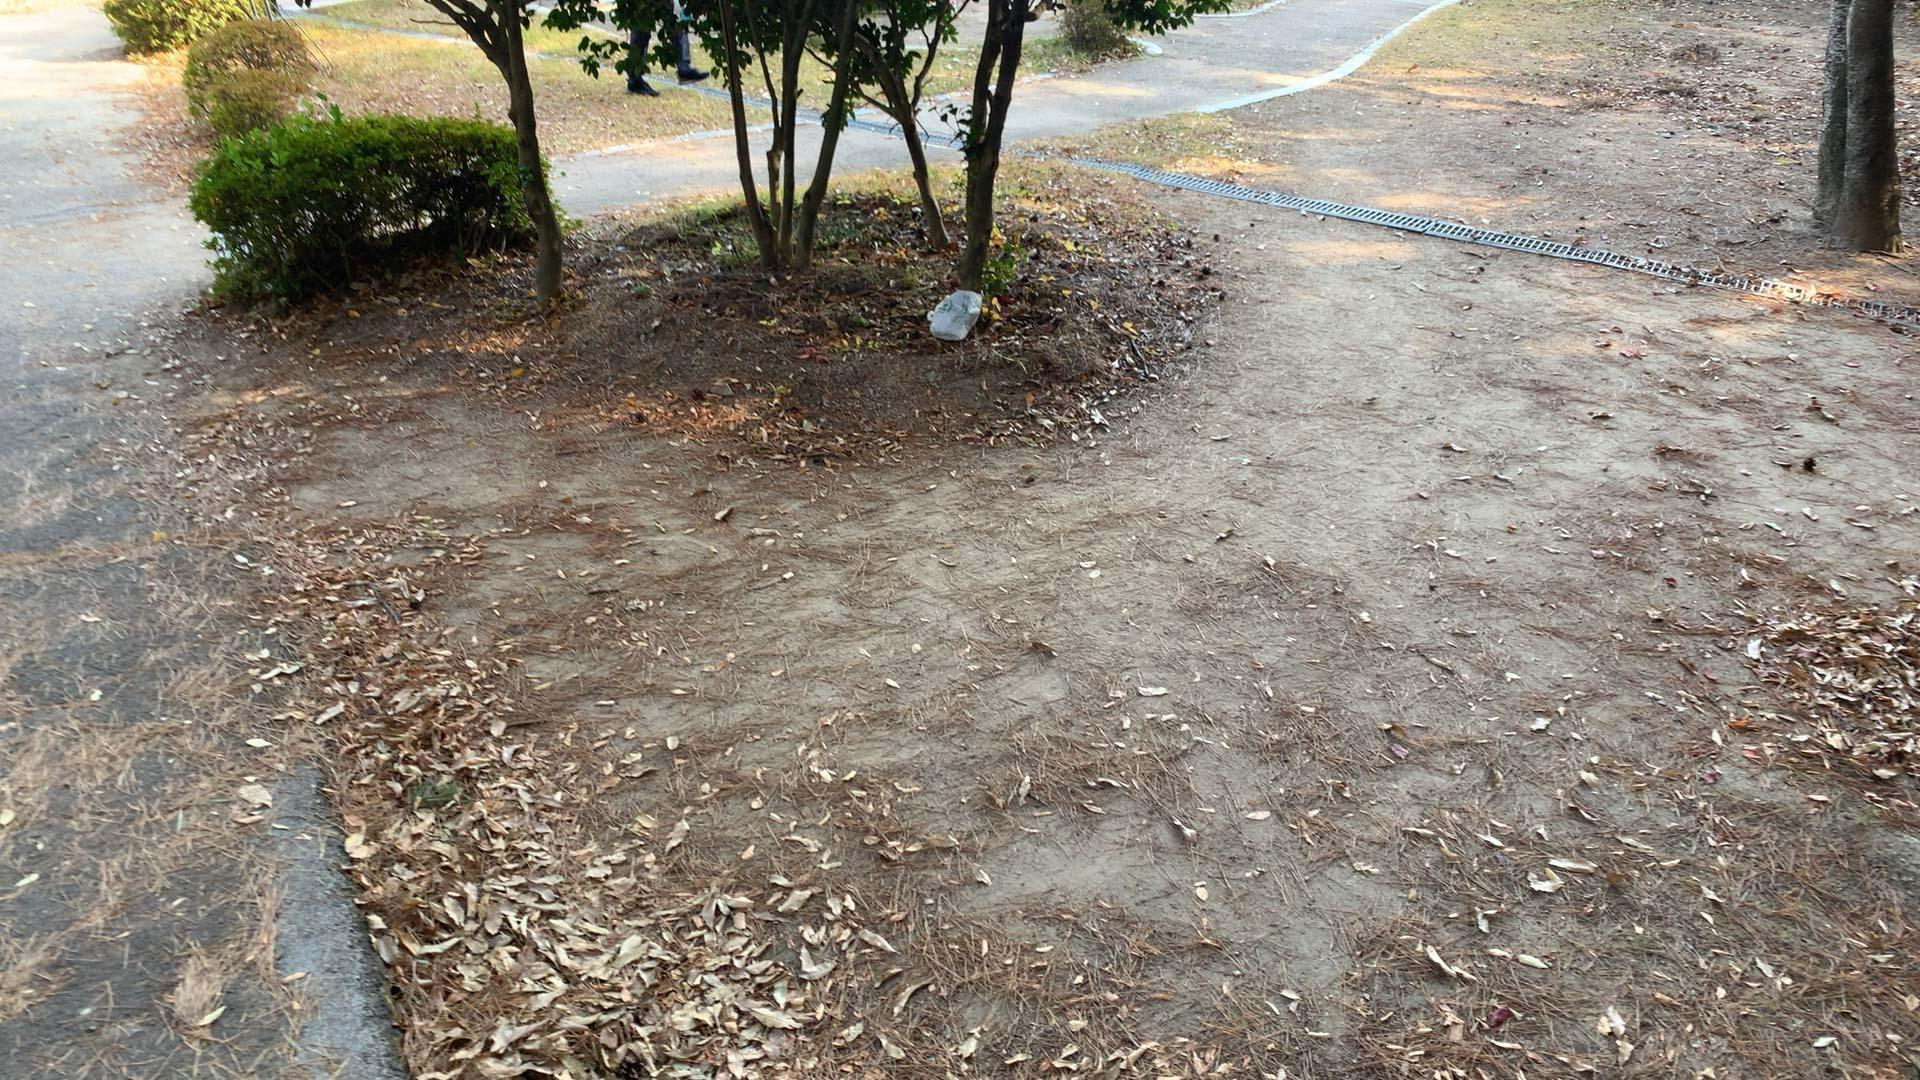white_bag: (919, 287, 987, 343)
